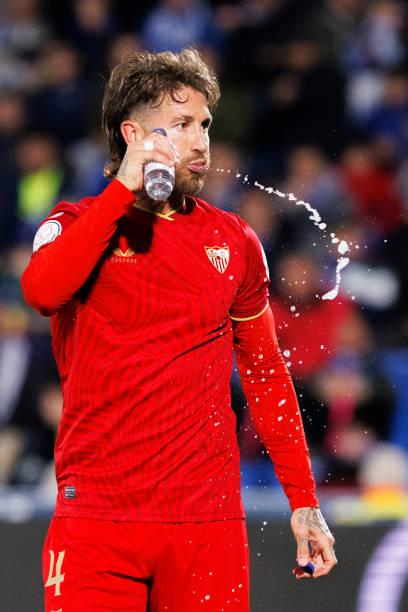Spitting: (95, 25, 254, 239)
